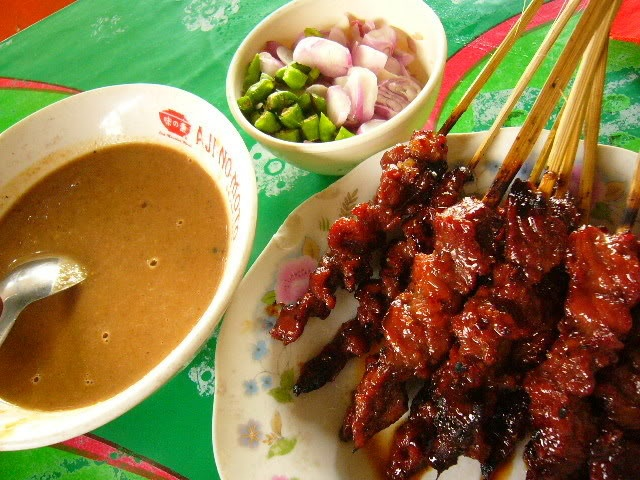sate_madura: (406, 1, 640, 480)
